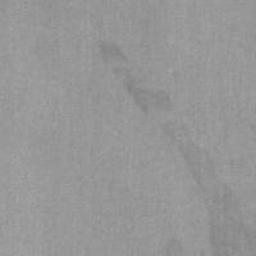Water spot: (97, 40, 256, 256), (165, 238, 183, 256)
